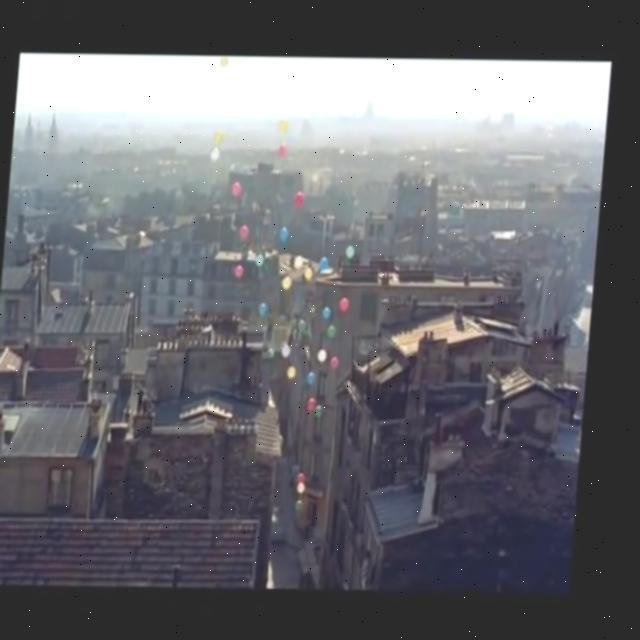balloon: (243, 224, 254, 240), (280, 119, 291, 133), (215, 130, 226, 144), (323, 254, 332, 270), (286, 276, 297, 288), (297, 190, 307, 203), (345, 297, 354, 311), (333, 323, 342, 337), (306, 480, 315, 494), (279, 142, 289, 154), (236, 181, 246, 193), (315, 368, 322, 385), (213, 148, 223, 159), (262, 301, 272, 312), (295, 366, 304, 377), (220, 56, 230, 65), (239, 264, 248, 274), (309, 268, 318, 278), (323, 349, 333, 358), (303, 499, 312, 509), (313, 395, 321, 406), (285, 226, 291, 240), (299, 256, 306, 268), (305, 318, 312, 330), (323, 403, 330, 415), (351, 246, 358, 257), (337, 355, 344, 366), (290, 342, 296, 354), (329, 304, 335, 316), (262, 255, 268, 266), (305, 472, 312, 478)
